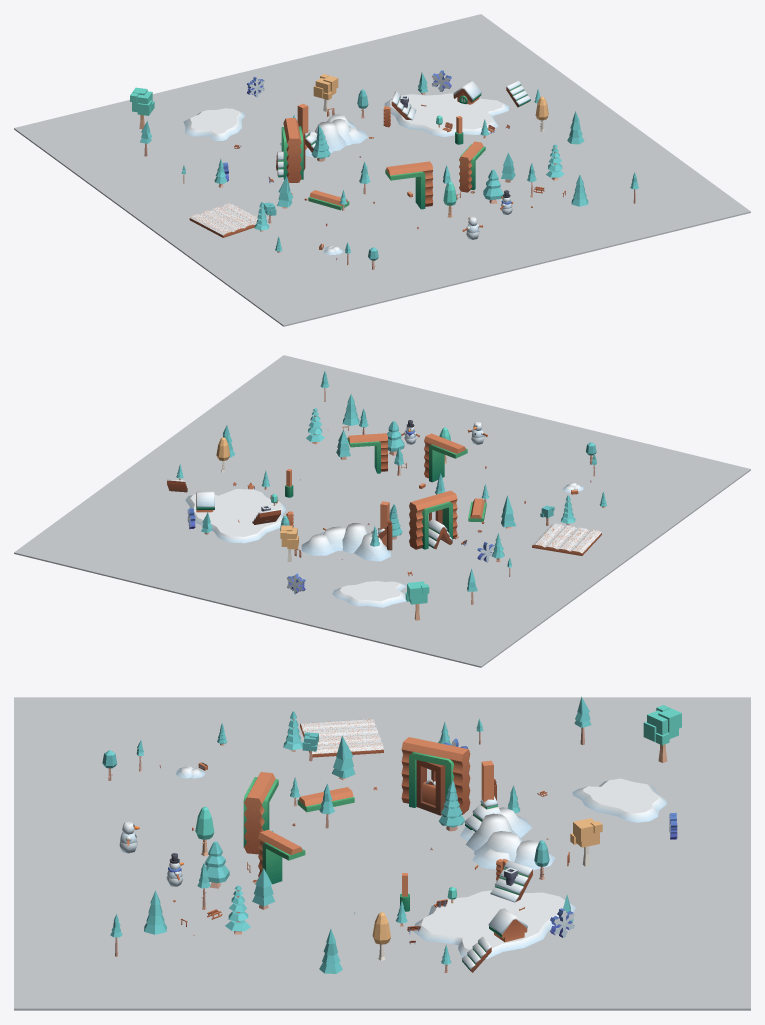
File: world.glb
3 renders of one model, top to bottom at view 1: azimuth 30°, elevation 25°; view 2: azimuth 150°, elevation 25°; view 3: azimuth 270°, elevation 25°, orthographic. The views are drawn at different scales.
Parts seen in each view (by area): view 1: Terrain, Pine_037_snow-flat-large, Pine_038_snow-flat, Pine_035_floor-wood-snow, Cabin_003_cabin-door-rotate, Cabin_005_cabin-doorway-left, Pine_036_snow-bunker, Cabin_006_cabin-doorway-right, Pine_022_tree_blocks, Pine_024_tree_blocks_fall; view 2: Terrain, Pine_037_snow-flat-large, Pine_036_snow-bunker, Cabin_003_cabin-door-rotate, Pine_038_snow-flat, Pine_035_floor-wood-snow, Cabin_005_cabin-doorway-left, Cabin_006_cabin-doorway-right, Pine_022_tree_blocks; view 3: Terrain, Pine_037_snow-flat-large, Cabin_003_cabin-door-rotate, Pine_036_snow-bunker, Pine_038_snow-flat, Pine_035_floor-wood-snow, Cabin_005_cabin-doorway-left, Cabin_006_cabin-doorway-right, Pine_022_tree_blocks, Pine_030_cabin-roof-snow-chim, Pine_032_cabin-roof-snow-dorm, Pine_024_tree_blocks_fall (+12 smaller).
Part boxes in pixels (x1,y1,x2,y2): Terrain: (14, 14, 750, 326); Pine_037_snow-flat-large: (384, 93, 509, 136); Pine_038_snow-flat: (183, 108, 244, 140); Pine_035_floor-wood-snow: (189, 203, 257, 237); Cabin_003_cabin-door-rotate: (281, 118, 305, 182); Cabin_005_cabin-doorway-left: (385, 161, 433, 209); Pine_036_snow-bunker: (280, 114, 367, 156); Cabin_006_cabin-doorway-right: (459, 141, 485, 192); Pine_022_tree_blocks: (130, 87, 154, 129); Pine_024_tree_blocks_fall: (313, 74, 338, 111); Terrain: (14, 355, 750, 667); Pine_037_snow-flat-large: (185, 489, 285, 543); Pine_036_snow-bunker: (301, 523, 390, 561); Cabin_003_cabin-door-rotate: (409, 490, 457, 549); Pine_038_snow-flat: (332, 581, 406, 607); Pine_035_floor-wood-snow: (532, 523, 601, 555); Cabin_005_cabin-doorway-left: (424, 433, 467, 482); Cabin_006_cabin-doorway-right: (348, 433, 388, 473); Pine_022_tree_blocks: (405, 581, 429, 620); Terrain: (14, 697, 750, 1010); Pine_037_snow-flat-large: (413, 890, 575, 958); Cabin_003_cabin-door-rotate: (401, 737, 470, 815); Pine_036_snow-bunker: (460, 807, 555, 869); Pine_038_snow-flat: (572, 778, 666, 822); Pine_035_floor-wood-snow: (300, 719, 383, 757); Cabin_005_cabin-doorway-left: (243, 772, 278, 854); Cabin_006_cabin-doorway-right: (258, 829, 305, 884); Pine_022_tree_blocks: (643, 705, 681, 762); Pine_030_cabin-roof-snow-chim: (490, 860, 532, 902); Pine_032_cabin-roof-snow-dorm: (488, 908, 527, 942); Pine_024_tree_blocks_fall: (570, 818, 602, 866).
Bounding box in the file's own units: 160 × 15.41 × 160.
104 materials, 44 textured.
